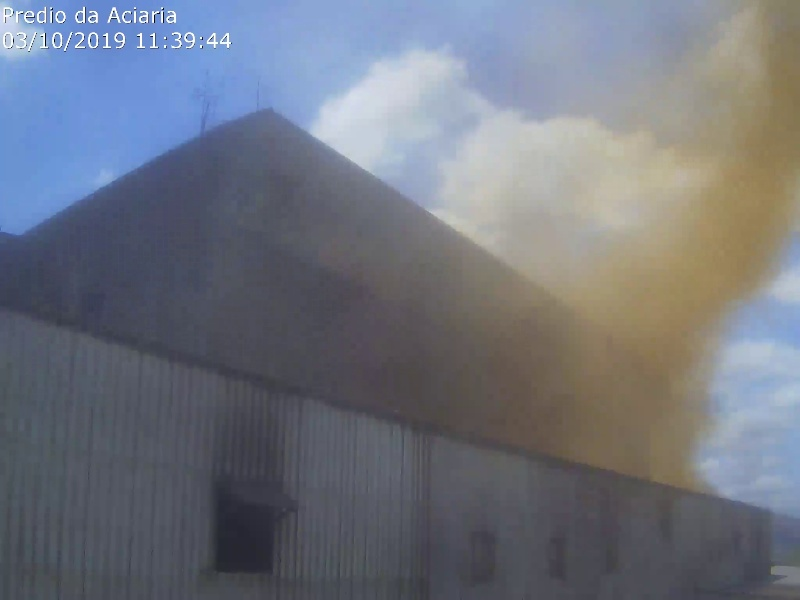pessimo: (417, 2, 800, 488)
